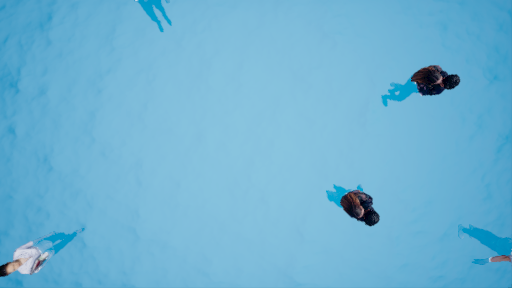person: (371, 62, 461, 118), (1, 228, 96, 281), (328, 180, 383, 230)
